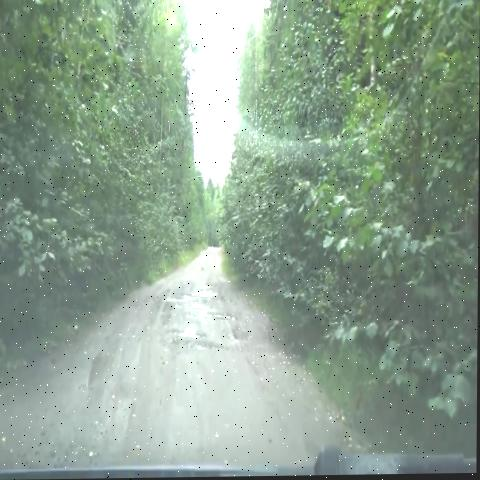pothole: (158, 318, 227, 360), (218, 317, 253, 354), (159, 288, 195, 315), (192, 271, 216, 304), (192, 293, 221, 317), (212, 308, 241, 331)
